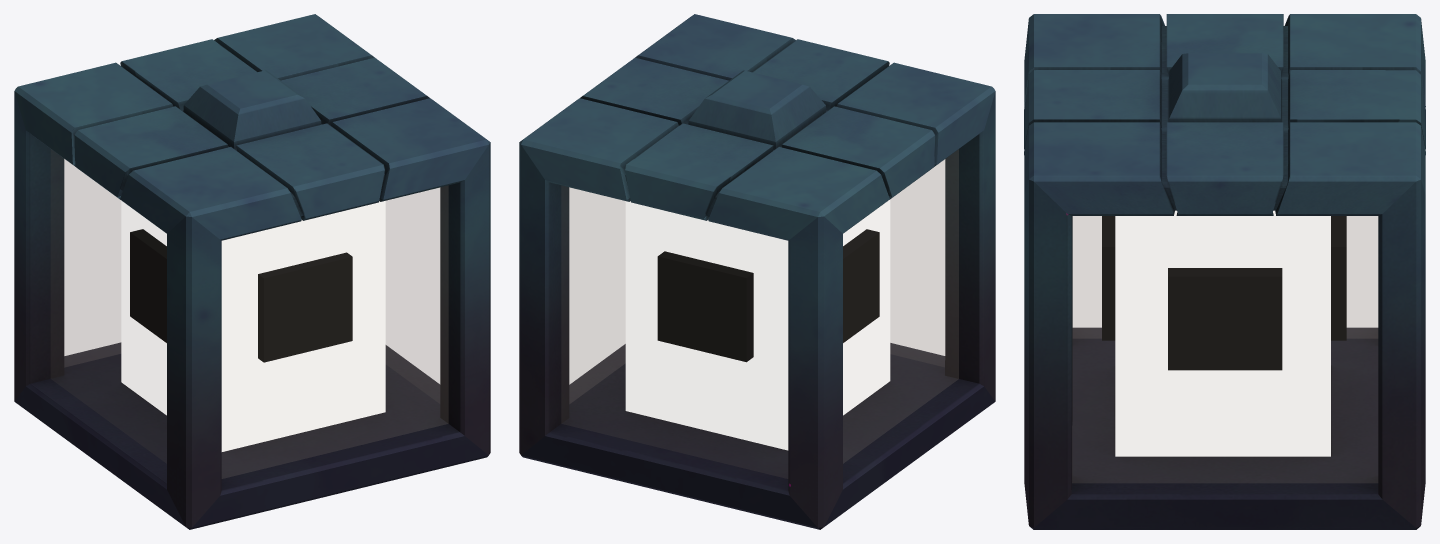
File: Caixa.fbx
3 renders of one model, left to right at view 1: azimuth 30°, elevation 25°; view 2: azimuth 150°, elevation 25°; view 3: azimuth 270°, elevation 25°, orthographic. The views are drawn at different scales.
Visible parts, largest first — view 1: CaixaFuturista; view 2: CaixaFuturista; view 3: CaixaFuturista.
Boxes of the visible parts, x1=… form: CaixaFuturista: x1=14, y1=14, x2=490, y2=529; CaixaFuturista: x1=519, y1=14, x2=995, y2=529; CaixaFuturista: x1=1024, y1=14, x2=1425, y2=529.
Size of the model in its own units: 103 by 107 by 103.
